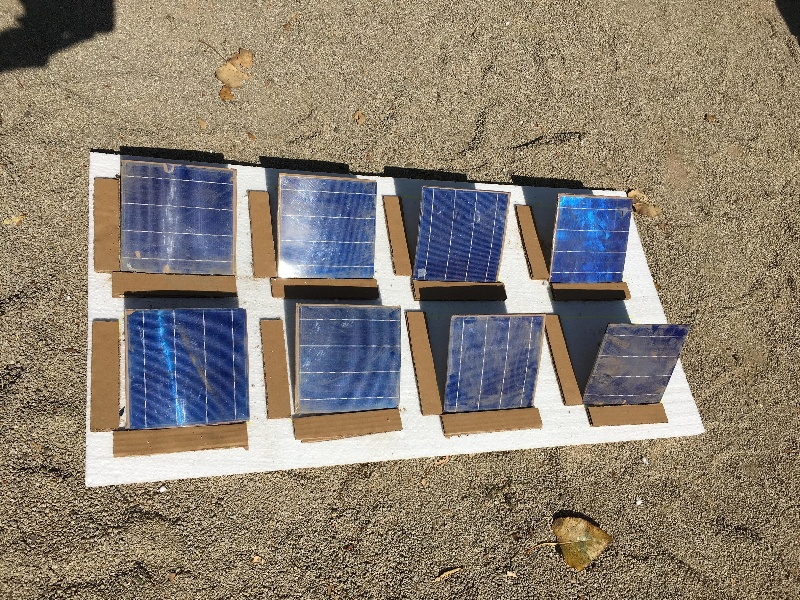clean: (123, 310, 251, 427), (415, 186, 504, 281), (547, 196, 629, 286)
dirty: (449, 315, 547, 410), (586, 324, 691, 408)
semi: (117, 162, 238, 278), (298, 307, 401, 412), (280, 177, 377, 279)
